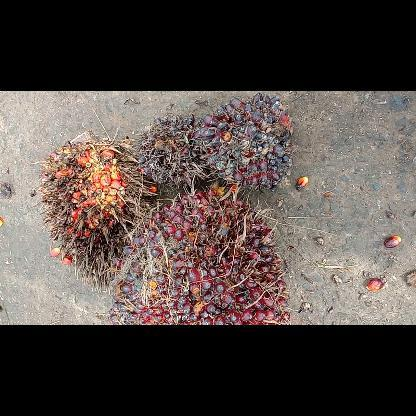TBS abnormal: (192, 90, 296, 196), (136, 112, 208, 190)
TBS masak: (103, 188, 297, 324)
Terlalu masak: (36, 128, 157, 294)
